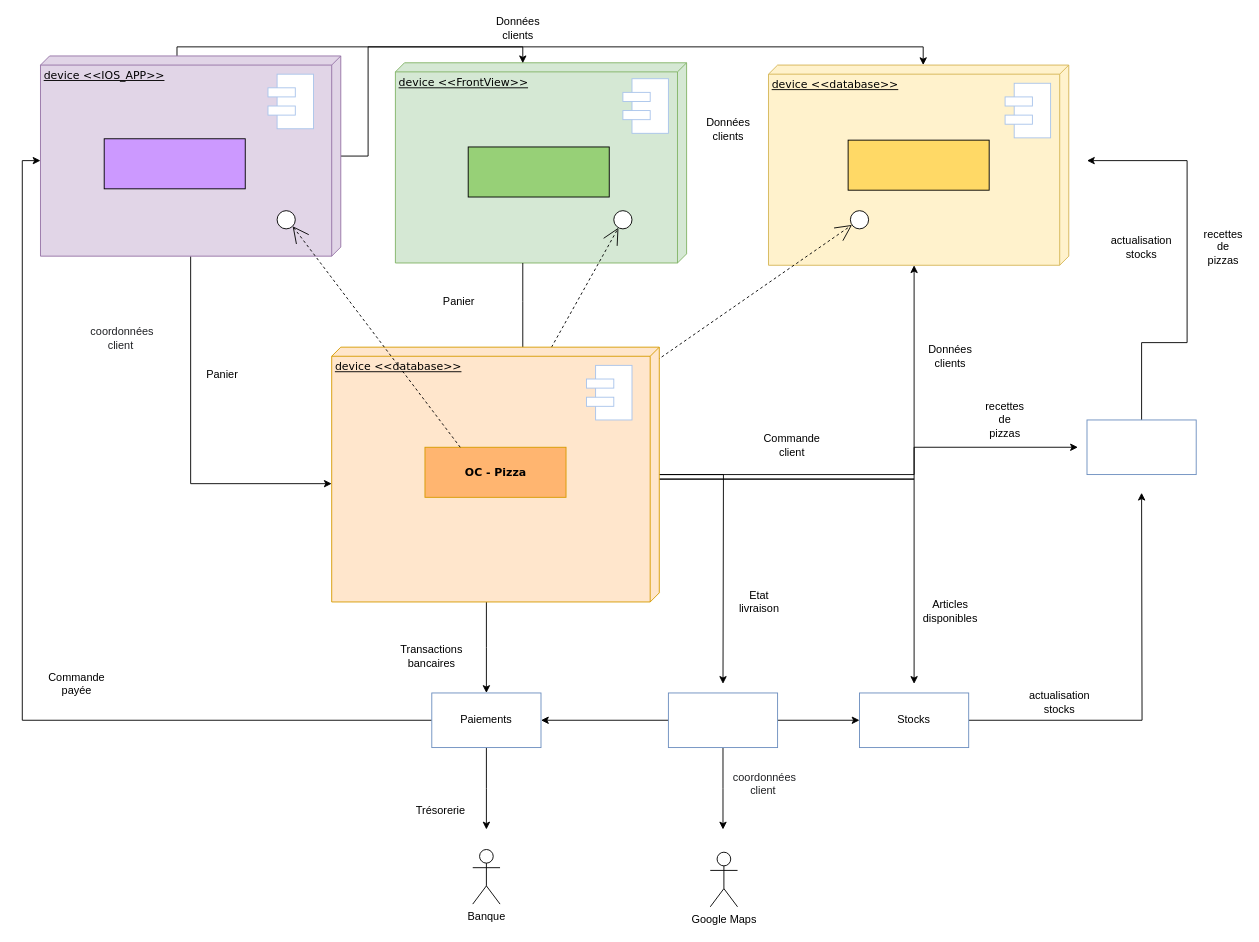
The diagram is 1259 pixels wide and 942 high, and some of its shapes have lost their labels. Each missing label, with the centre of its shape:
"Firebase" goes at pixel 918 164.
"Géolocalisation" goes at pixel 722 720.
"IOS APP" goes at pixel 174 163.
"Prestashop" goes at pixel 538 171.
"Recettes" goes at pixel 1141 447.
